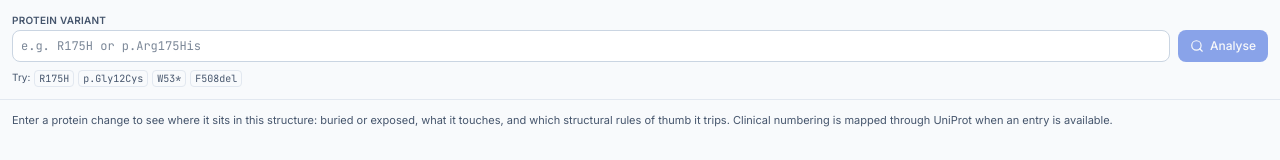
Test: VariantPanel › shows the backend's reason when a variant does not fit
What coordinates should you click on to do the following:
click the button "R175H"
I would click on:
 (54, 78)
Its box is [34, 70, 74, 87].
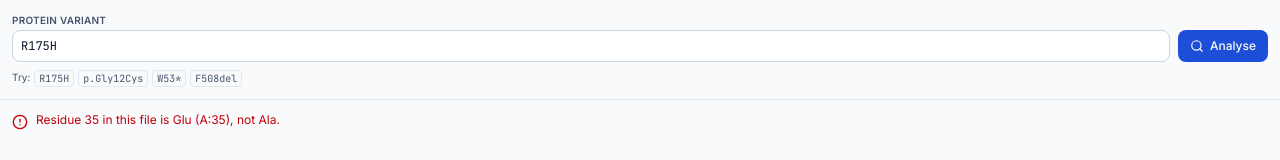
Expected: the message shows "not Ala", [36, 112, 280, 127]
